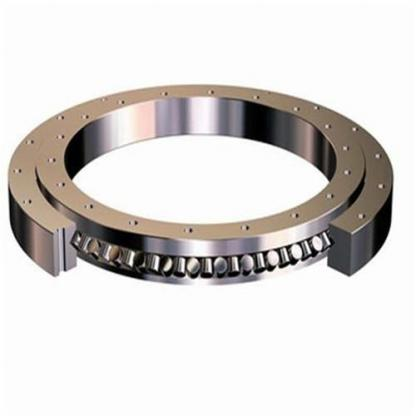FOD: (6, 77, 398, 283)
